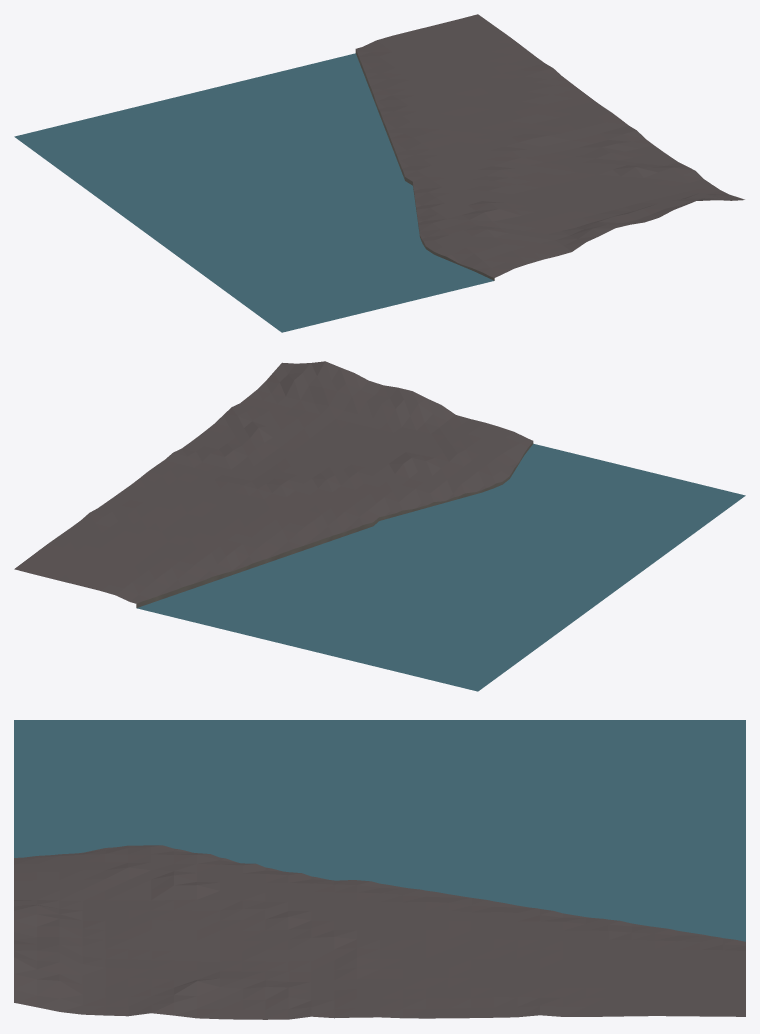
3 views of the same model, one above another, from view 1: azimuth 30°, elevation 25°; view 2: azimuth 150°, elevation 25°; view 3: azimuth 270°, elevation 25° (orthographic). The views are drawn at different scales.
Parts seen in each view (by area): view 1: c_p05_m11, append:c_p05_m11; view 2: c_p05_m11, append:c_p05_m11; view 3: c_p05_m11.
Part boxes in pixels (x1,y1,x2,y2): c_p05_m11: (14,14,744,332); append:c_p05_m11: (355,49,494,280); c_p05_m11: (14,361,745,691); append:c_p05_m11: (136,441,533,607); c_p05_m11: (14,720,745,1019).
Size of the model in its own units: 128 by 8.34 by 128.
